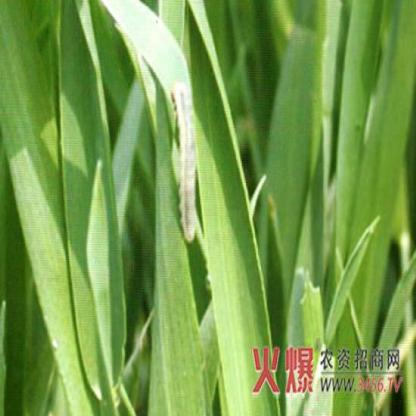sawfly: (170, 73, 206, 250)
